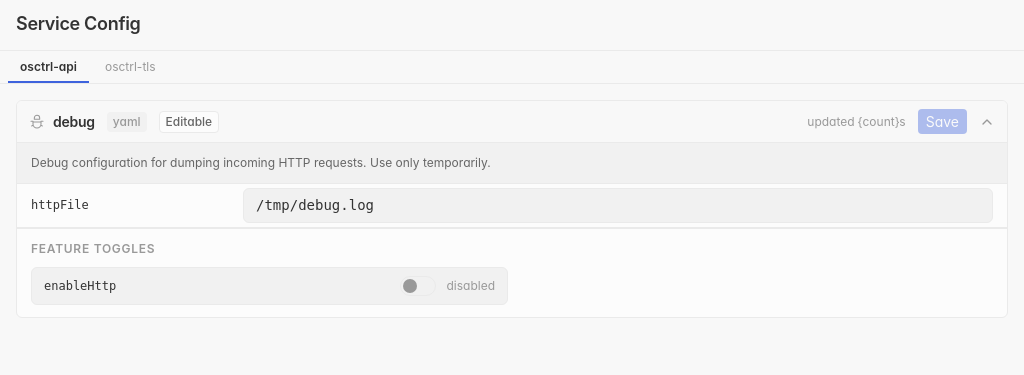
Test: ServiceConfigPage › shows the field the server rejected instead of a bare "Invalid value"
The width and height of the screenshot is (1024, 375).
Replace the text in the field showing "/tmp/debug.log" with "/changed" at coordinates (618, 205), box 243,188 -> 993,222
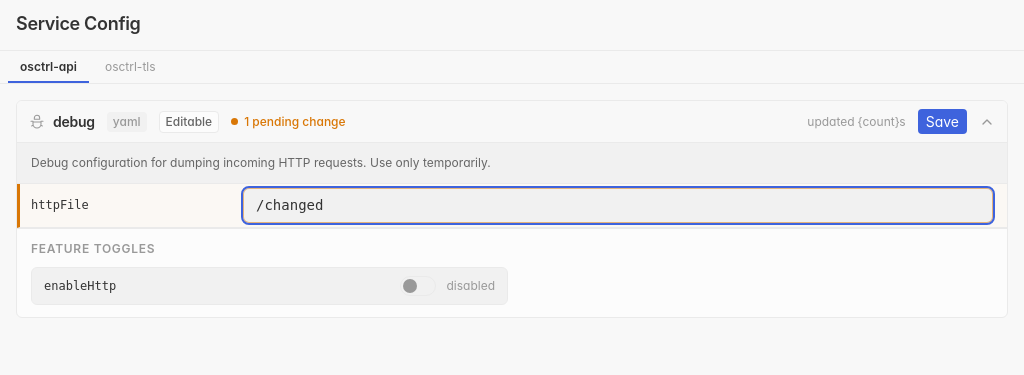
Click the button "Save".
click(942, 122)  # box 918,109 -> 967,134
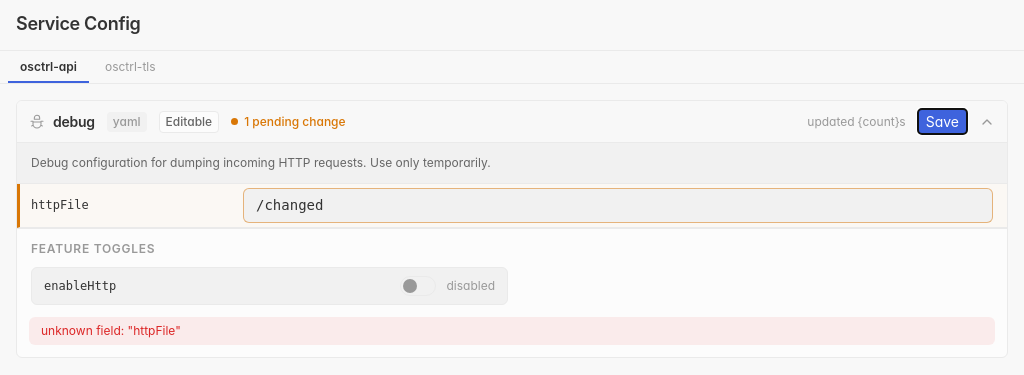
Expected: the text "unknown field: \"httpFile\"" is shown, 29,316 -> 995,344
